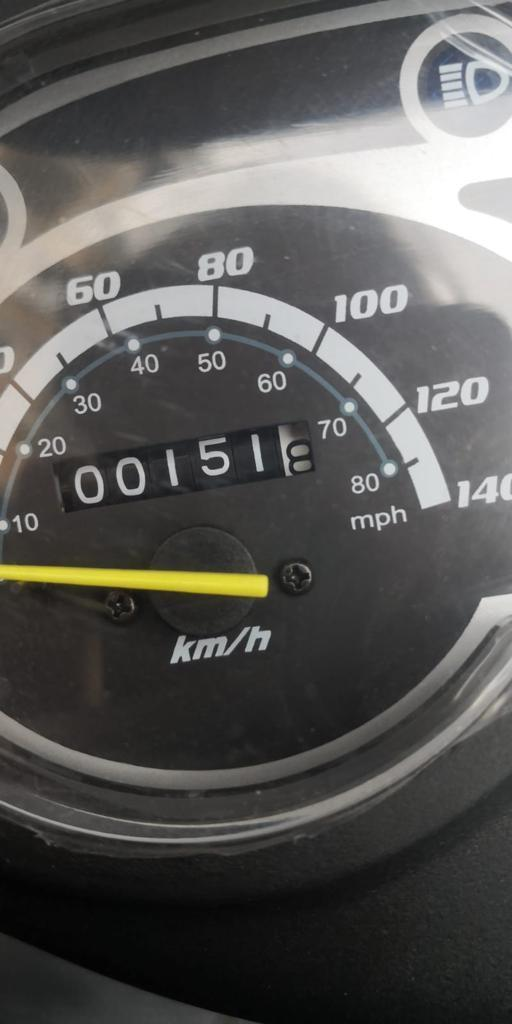0: (114, 452, 147, 500), (72, 462, 107, 506), (52, 433, 68, 456)
1: (161, 442, 185, 496), (247, 424, 266, 484)
5: (195, 433, 233, 480)
8: (282, 437, 315, 482)
odometer: (50, 414, 321, 518)
